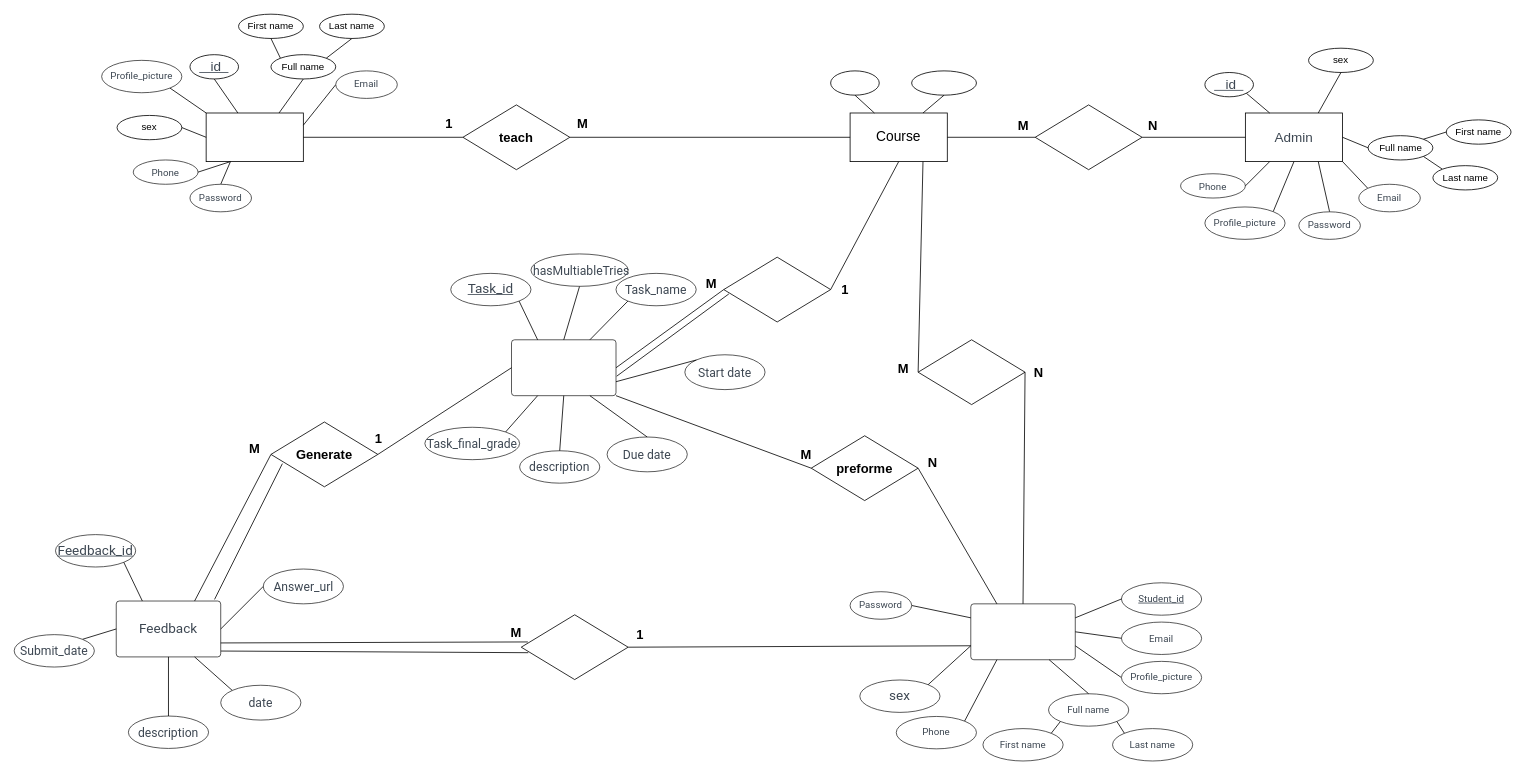
The diagram is 1525 pixels wide and 775 high, and some of its shapes have lost their labels. Each missing label, with the box of its shape:
belong: (520, 614, 628, 680)
course_ID: (830, 70, 879, 95)
Course_name: (911, 70, 976, 95)
Has: (723, 256, 831, 322)
Instructor: (205, 112, 303, 162)
provide: (1034, 104, 1142, 170)
Student: (970, 603, 1075, 660)
take: (917, 339, 1025, 405)
Task: (511, 339, 616, 396)
